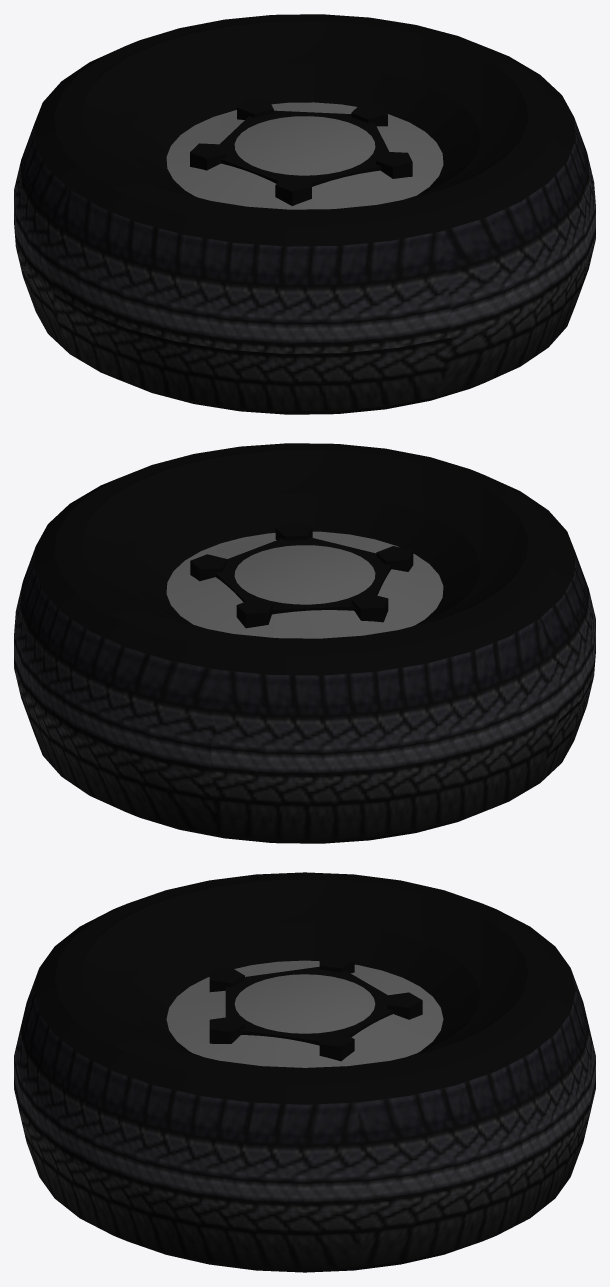
File: JuniorFactory_SlicerClone_Tire_v1.fbx
3 views of the same model, one above another, from view 1: azimuth 30°, elevation 25°; view 2: azimuth 150°, elevation 25°; view 3: azimuth 270°, elevation 25° (orthographic).
Parts seen in each view (by area): view 1: Tire; view 2: Tire; view 3: Tire.
Part boxes in pixels (x1,y1,x2,y2): Tire: [14, 14, 595, 414]; Tire: [14, 443, 595, 843]; Tire: [14, 872, 595, 1272].
Bounding box in the file's own units: 200 × 75 × 200.
1 material, 1 textured.
